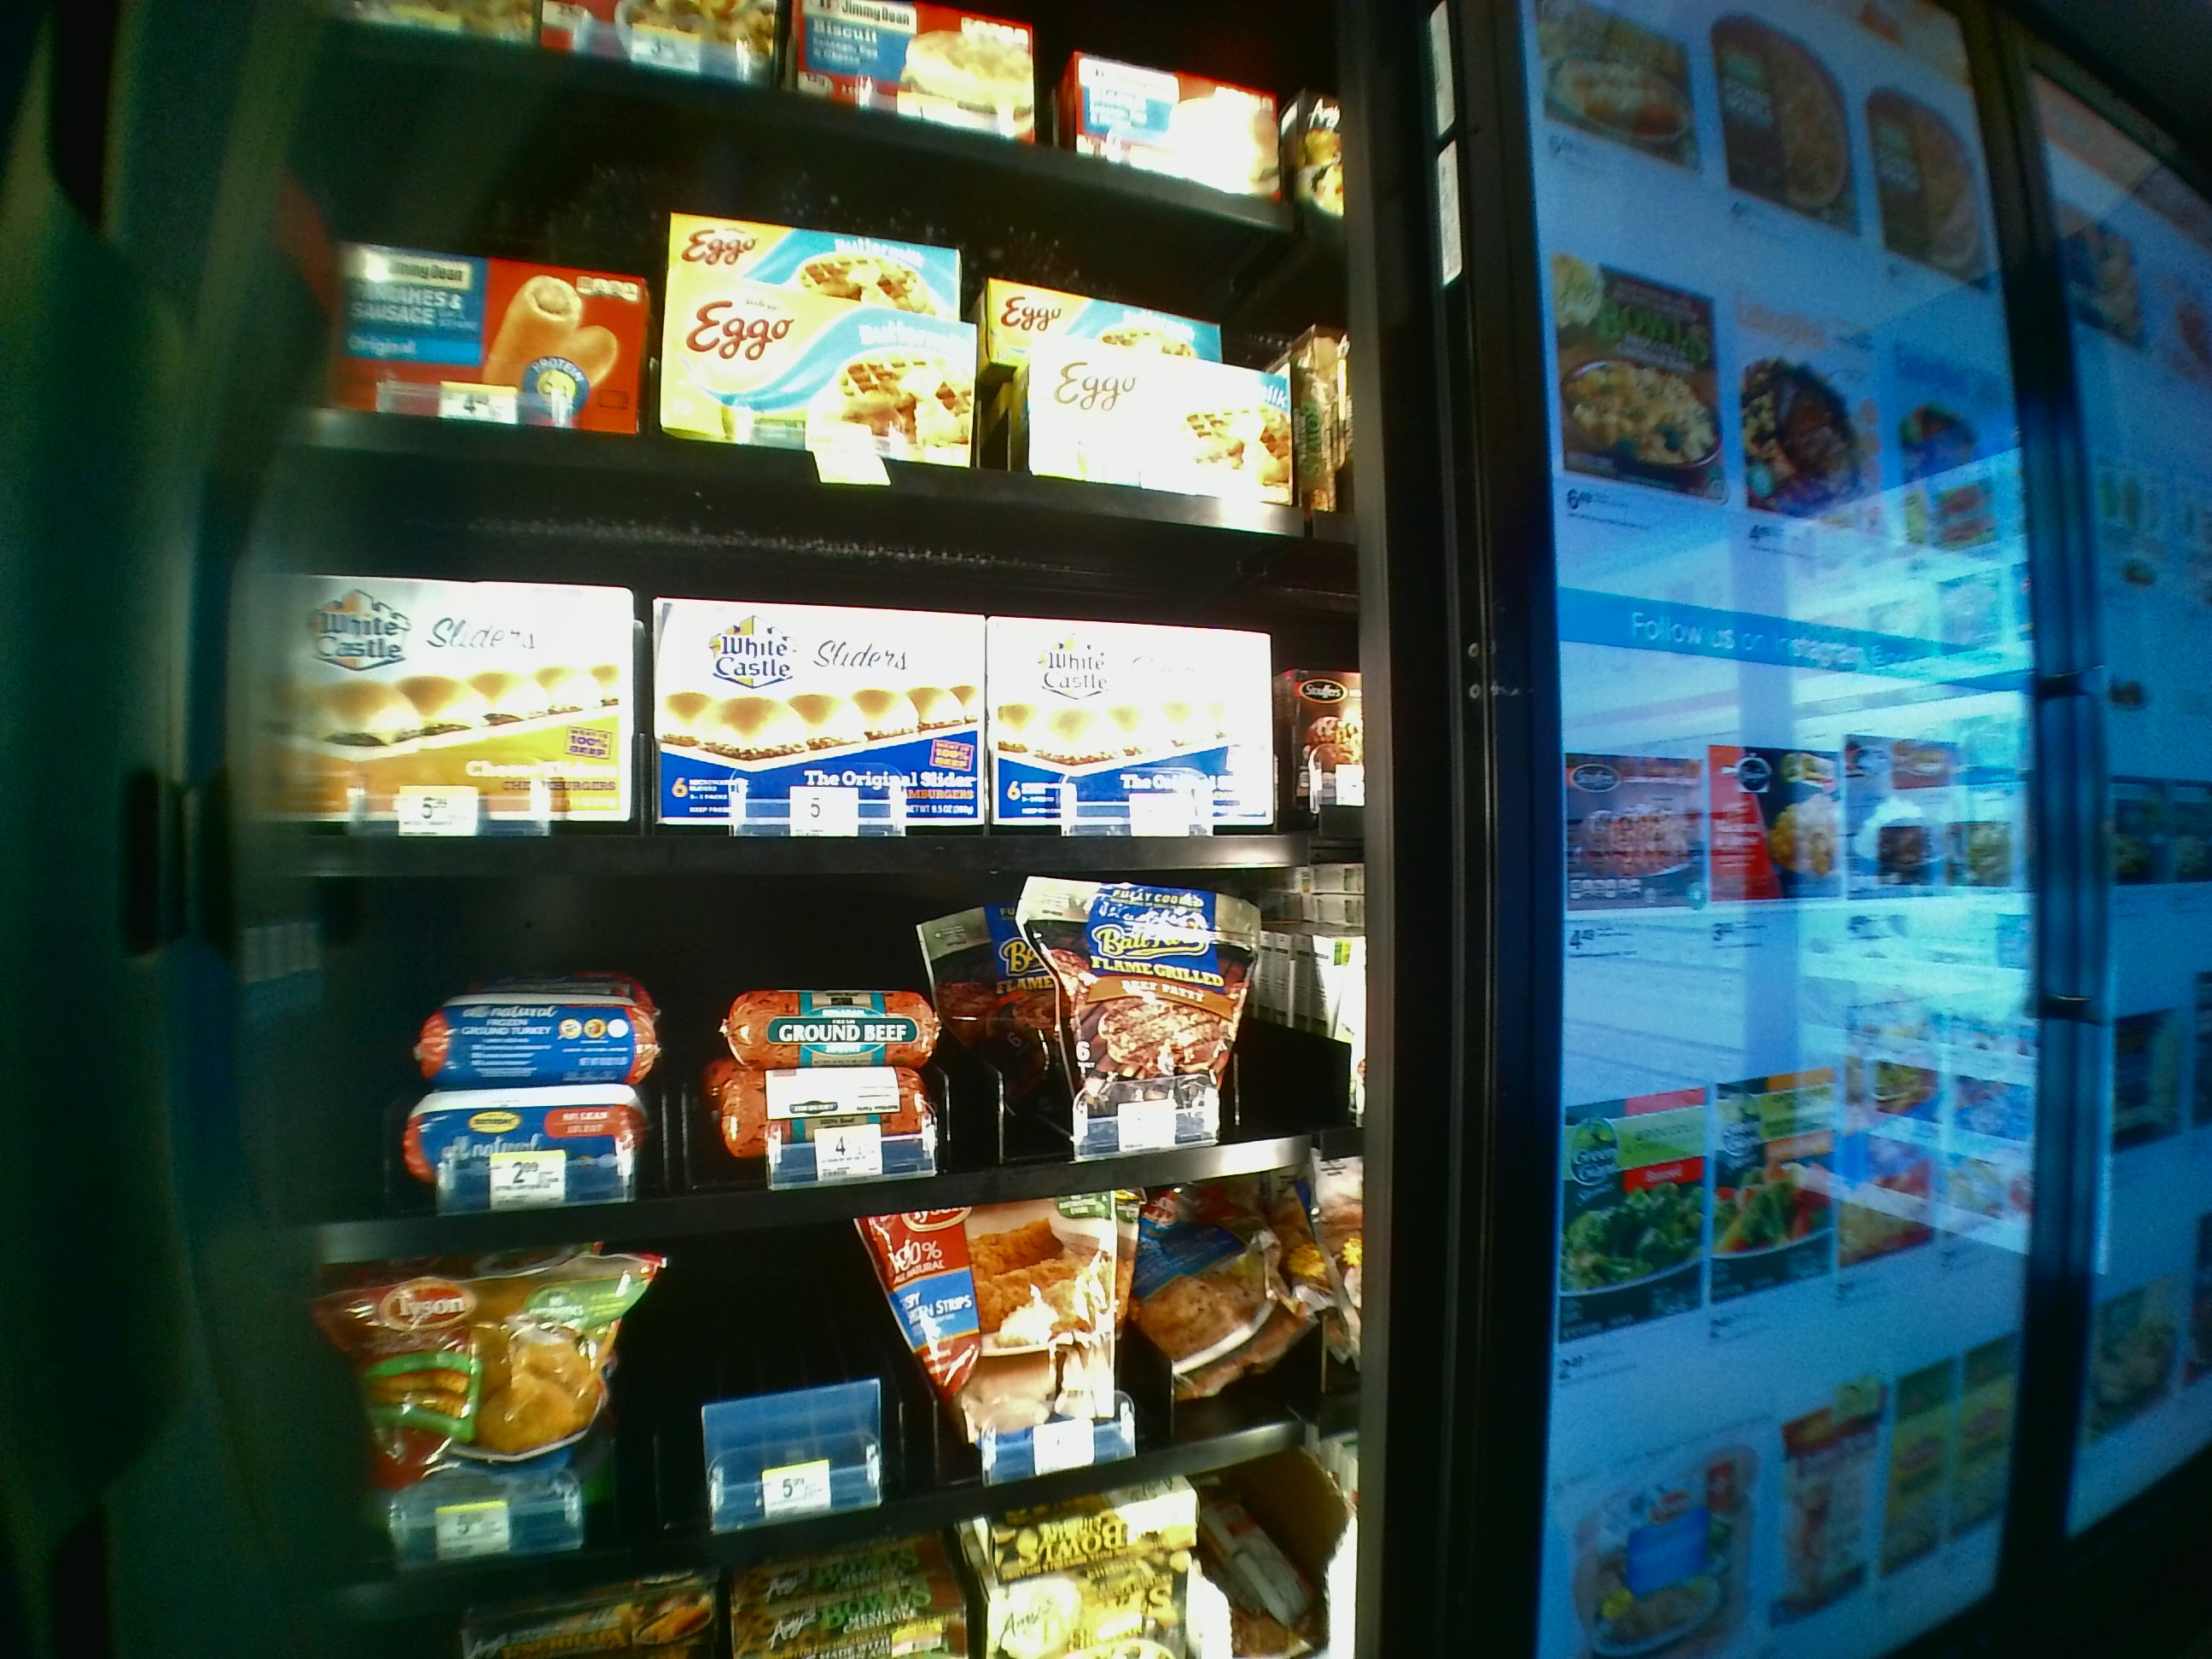shelf: (221, 446, 1366, 878), (223, 894, 1359, 1274)
